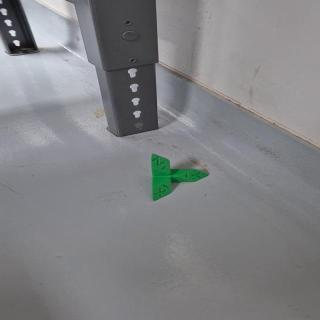eje: (150, 152, 210, 202)
